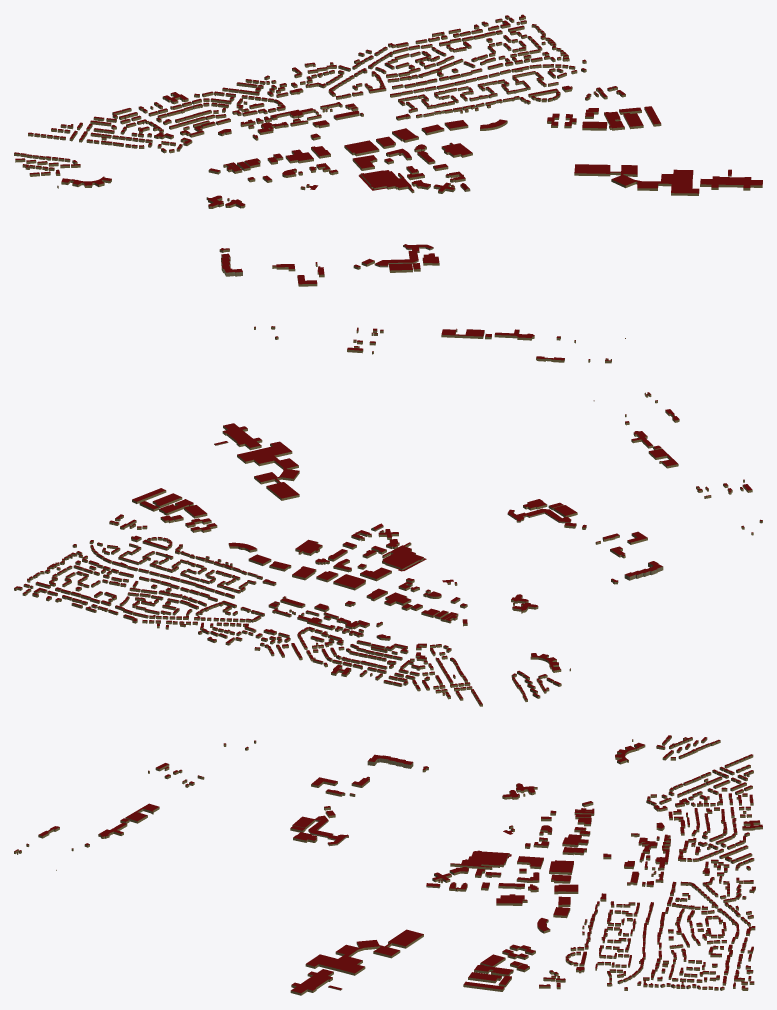
3 views of the same model, one above another, from view 1: azimuth 30°, elevation 25°; view 2: azimuth 150°, elevation 25°; view 3: azimuth 270°, elevation 25° (orthographic). The views are drawn at different scales.
Parts seen in each view (by area): view 1: Building IBM, Building Tesco Extra, Building175; view 2: Building IBM, Building Tesco Extra, Building175; view 3: Building IBM, Building Tesco Extra, Building175, Building The Boardwalk Shopping Centre.
Boxes of the visible parts, x1=… form: Building IBM: x1=574, y1=164, x2=699, y2=195; Building Tesco Extra: x1=360, y1=170, x2=414, y2=193; Building175: x1=700, y1=176, x2=762, y2=190; Building IBM: x1=237, y1=441, x2=299, y2=500; Building Tesco Extra: x1=382, y1=542, x2=423, y2=570; Building175: x1=222, y1=423, x2=262, y2=450; Building IBM: x1=305, y1=929, x2=423, y2=975; Building Tesco Extra: x1=450, y1=850, x2=509, y2=869; Building175: x1=290, y1=969, x2=333, y2=995; Building The Boardwalk Shopping Centre: x1=308, y1=815, x2=348, y2=846.
Size of the model in its own units: 1727 by 12.5 by 2116.
